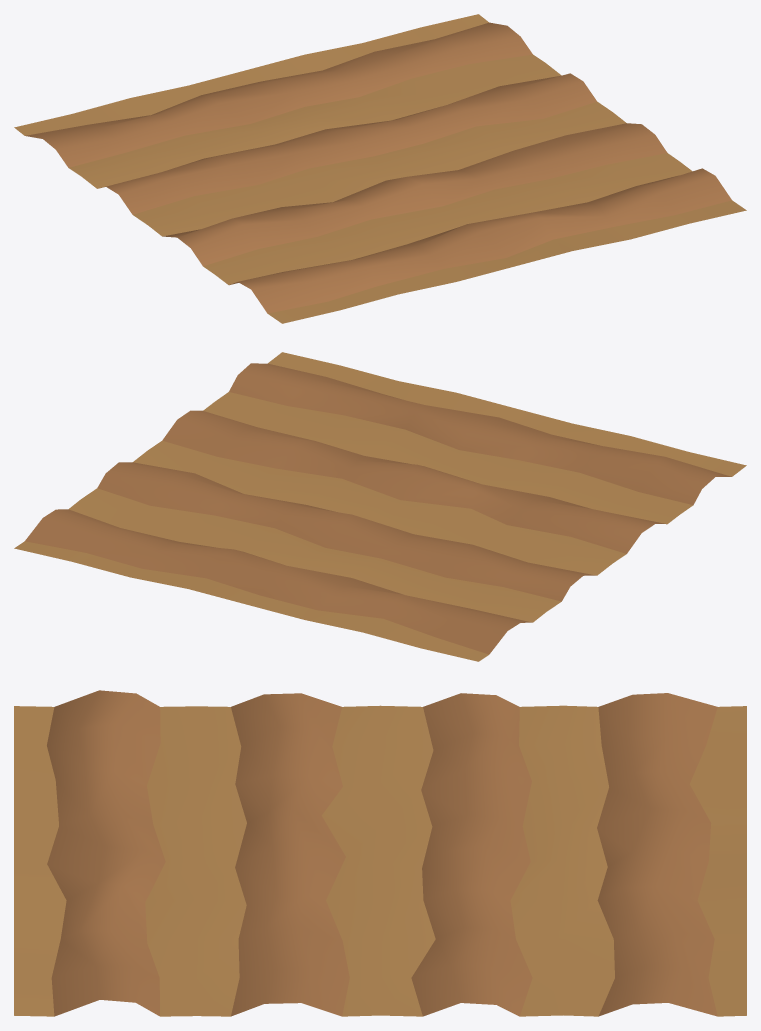
File: Building_model_0_Field001.fbx
3 renders of one model, top to bottom at view 1: azimuth 30°, elevation 25°; view 2: azimuth 150°, elevation 25°; view 3: azimuth 270°, elevation 25°, orthographic. The views are drawn at different scales.
Parts seen in each view (by area): view 1: Building_model_0_Field001; view 2: Building_model_0_Field001; view 3: Building_model_0_Field001.
Boxes of the visible parts, x1,y1,x2,y2 form: Building_model_0_Field001: [14, 14, 746, 323]; Building_model_0_Field001: [14, 352, 746, 661]; Building_model_0_Field001: [14, 690, 746, 1016].
Bounding box in the file's own units: 3 × 0.0888 × 3.
